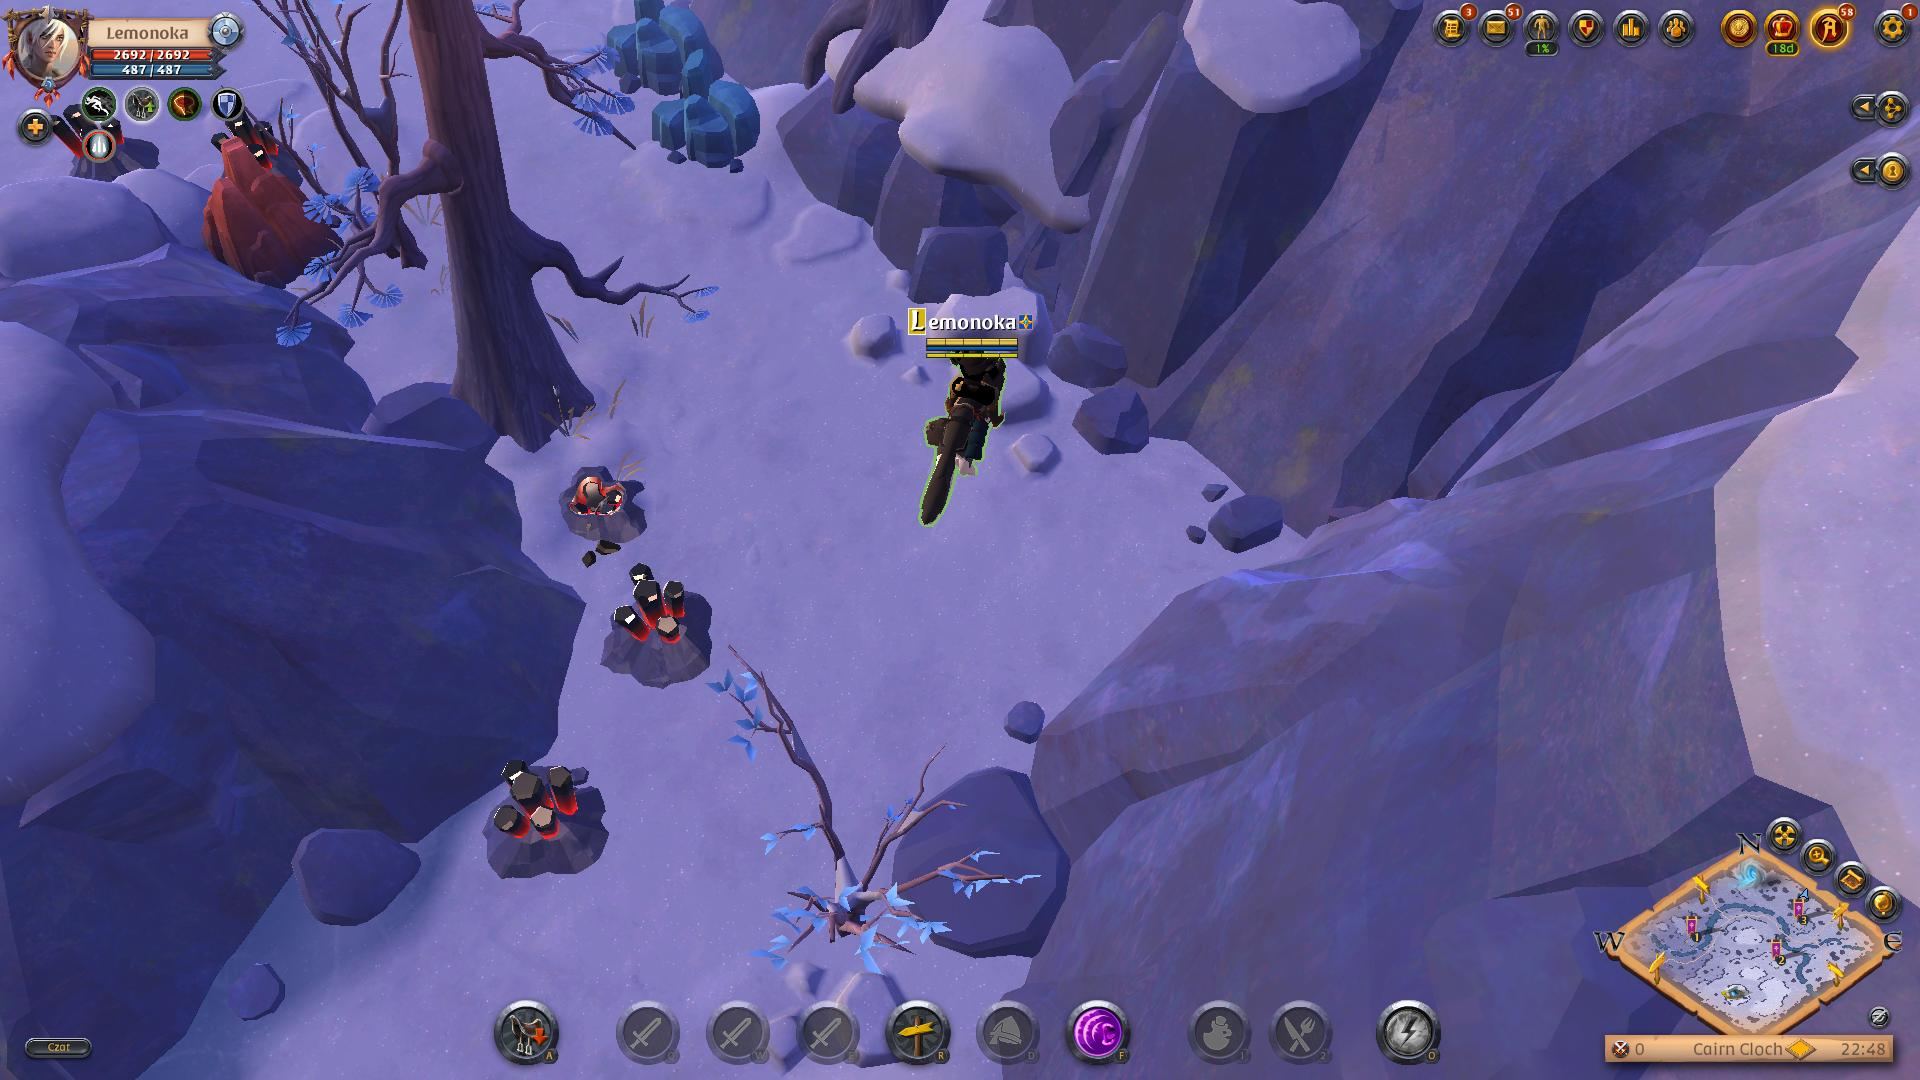ore tier 5: (475, 749, 616, 890), (596, 560, 725, 688)
rock tier 4: (650, 49, 764, 169)
rock tier 5: (195, 135, 334, 284)
